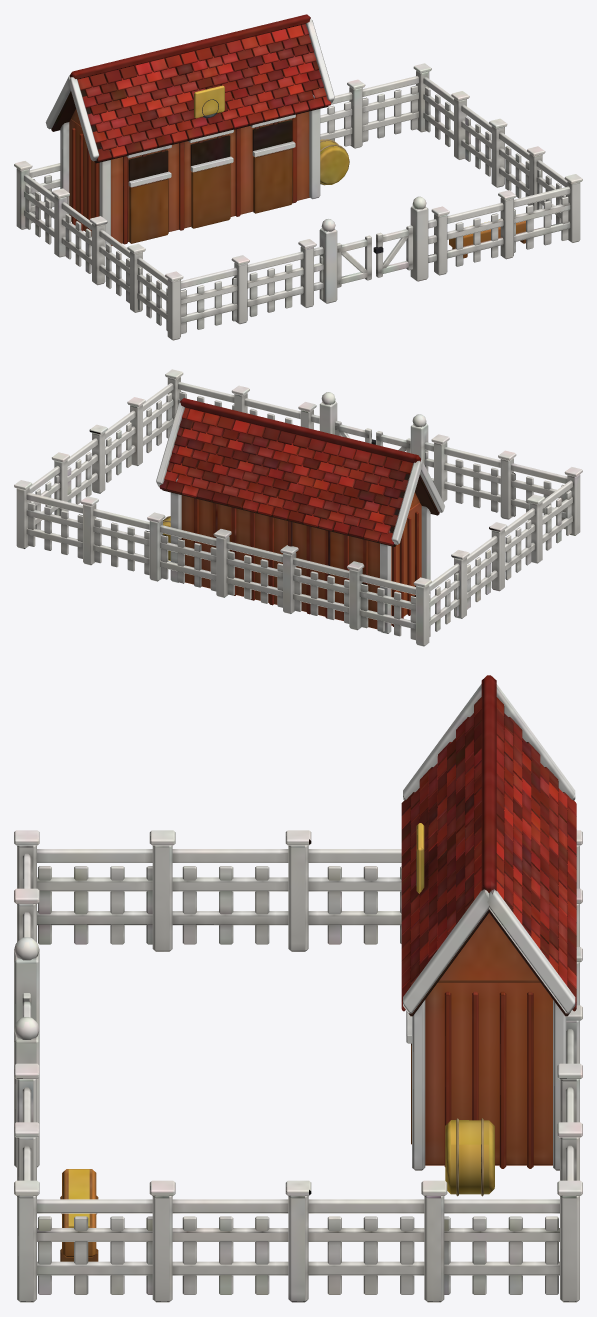
Rendered from stable.glb.
The picture shows the model from 3 angles, top to bottom: view 1: azimuth 30°, elevation 25°; view 2: azimuth 150°, elevation 25°; view 3: azimuth 270°, elevation 25°; orthographic projection. The views are drawn at different scales.
Parts seen in each view (by area): view 1: stable, gate1, gate0; view 2: stable, gate1, gate0; view 3: stable.
Boxes of the visible parts, box(x1,y1,x2,y2) form: stable: box(14, 14, 582, 340); gate1: box(373, 225, 413, 277); gate0: box(337, 235, 371, 287); stable: box(14, 369, 582, 646); gate1: box(334, 420, 375, 444); gate0: box(376, 431, 410, 453); stable: box(14, 675, 582, 1302).
Bounding box in the file's own units: 2.99 × 1.16 × 1.99.
1 material, 1 textured.
